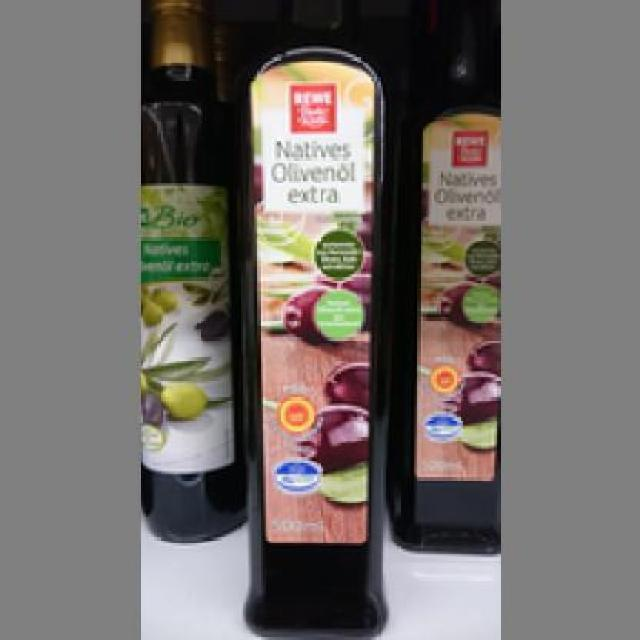Oil: (244, 0, 386, 635), (388, 0, 494, 557), (140, 0, 246, 543)
